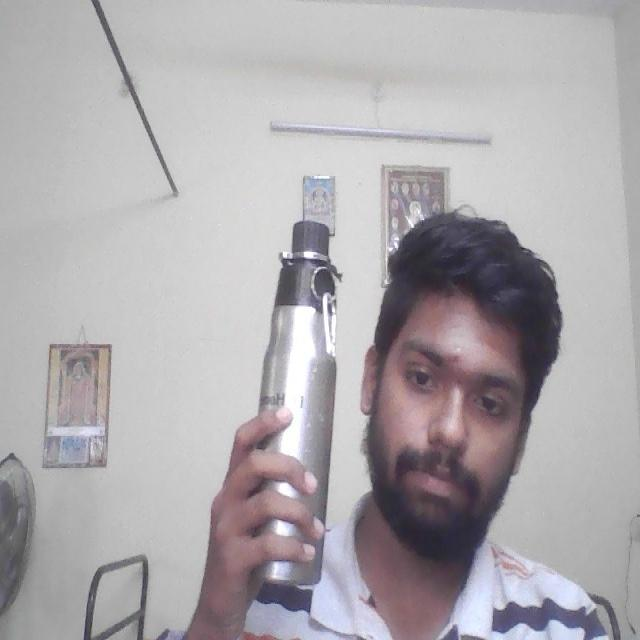Drinking: (253, 218, 342, 591)
